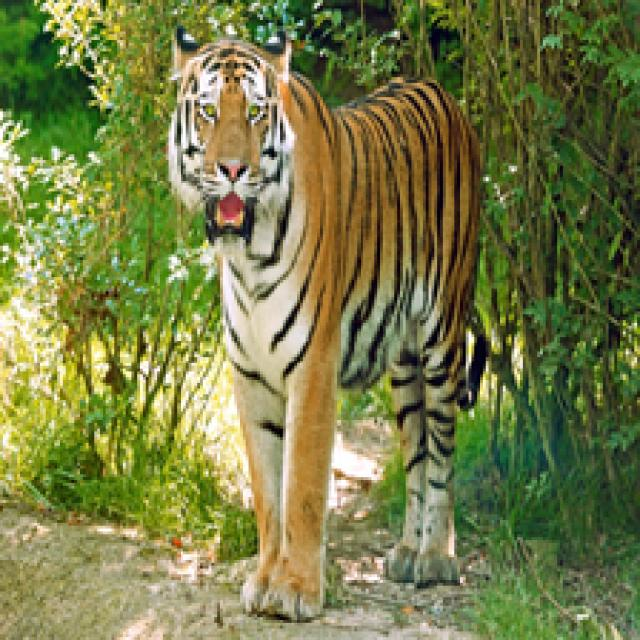tiger: (129, 27, 540, 640)
